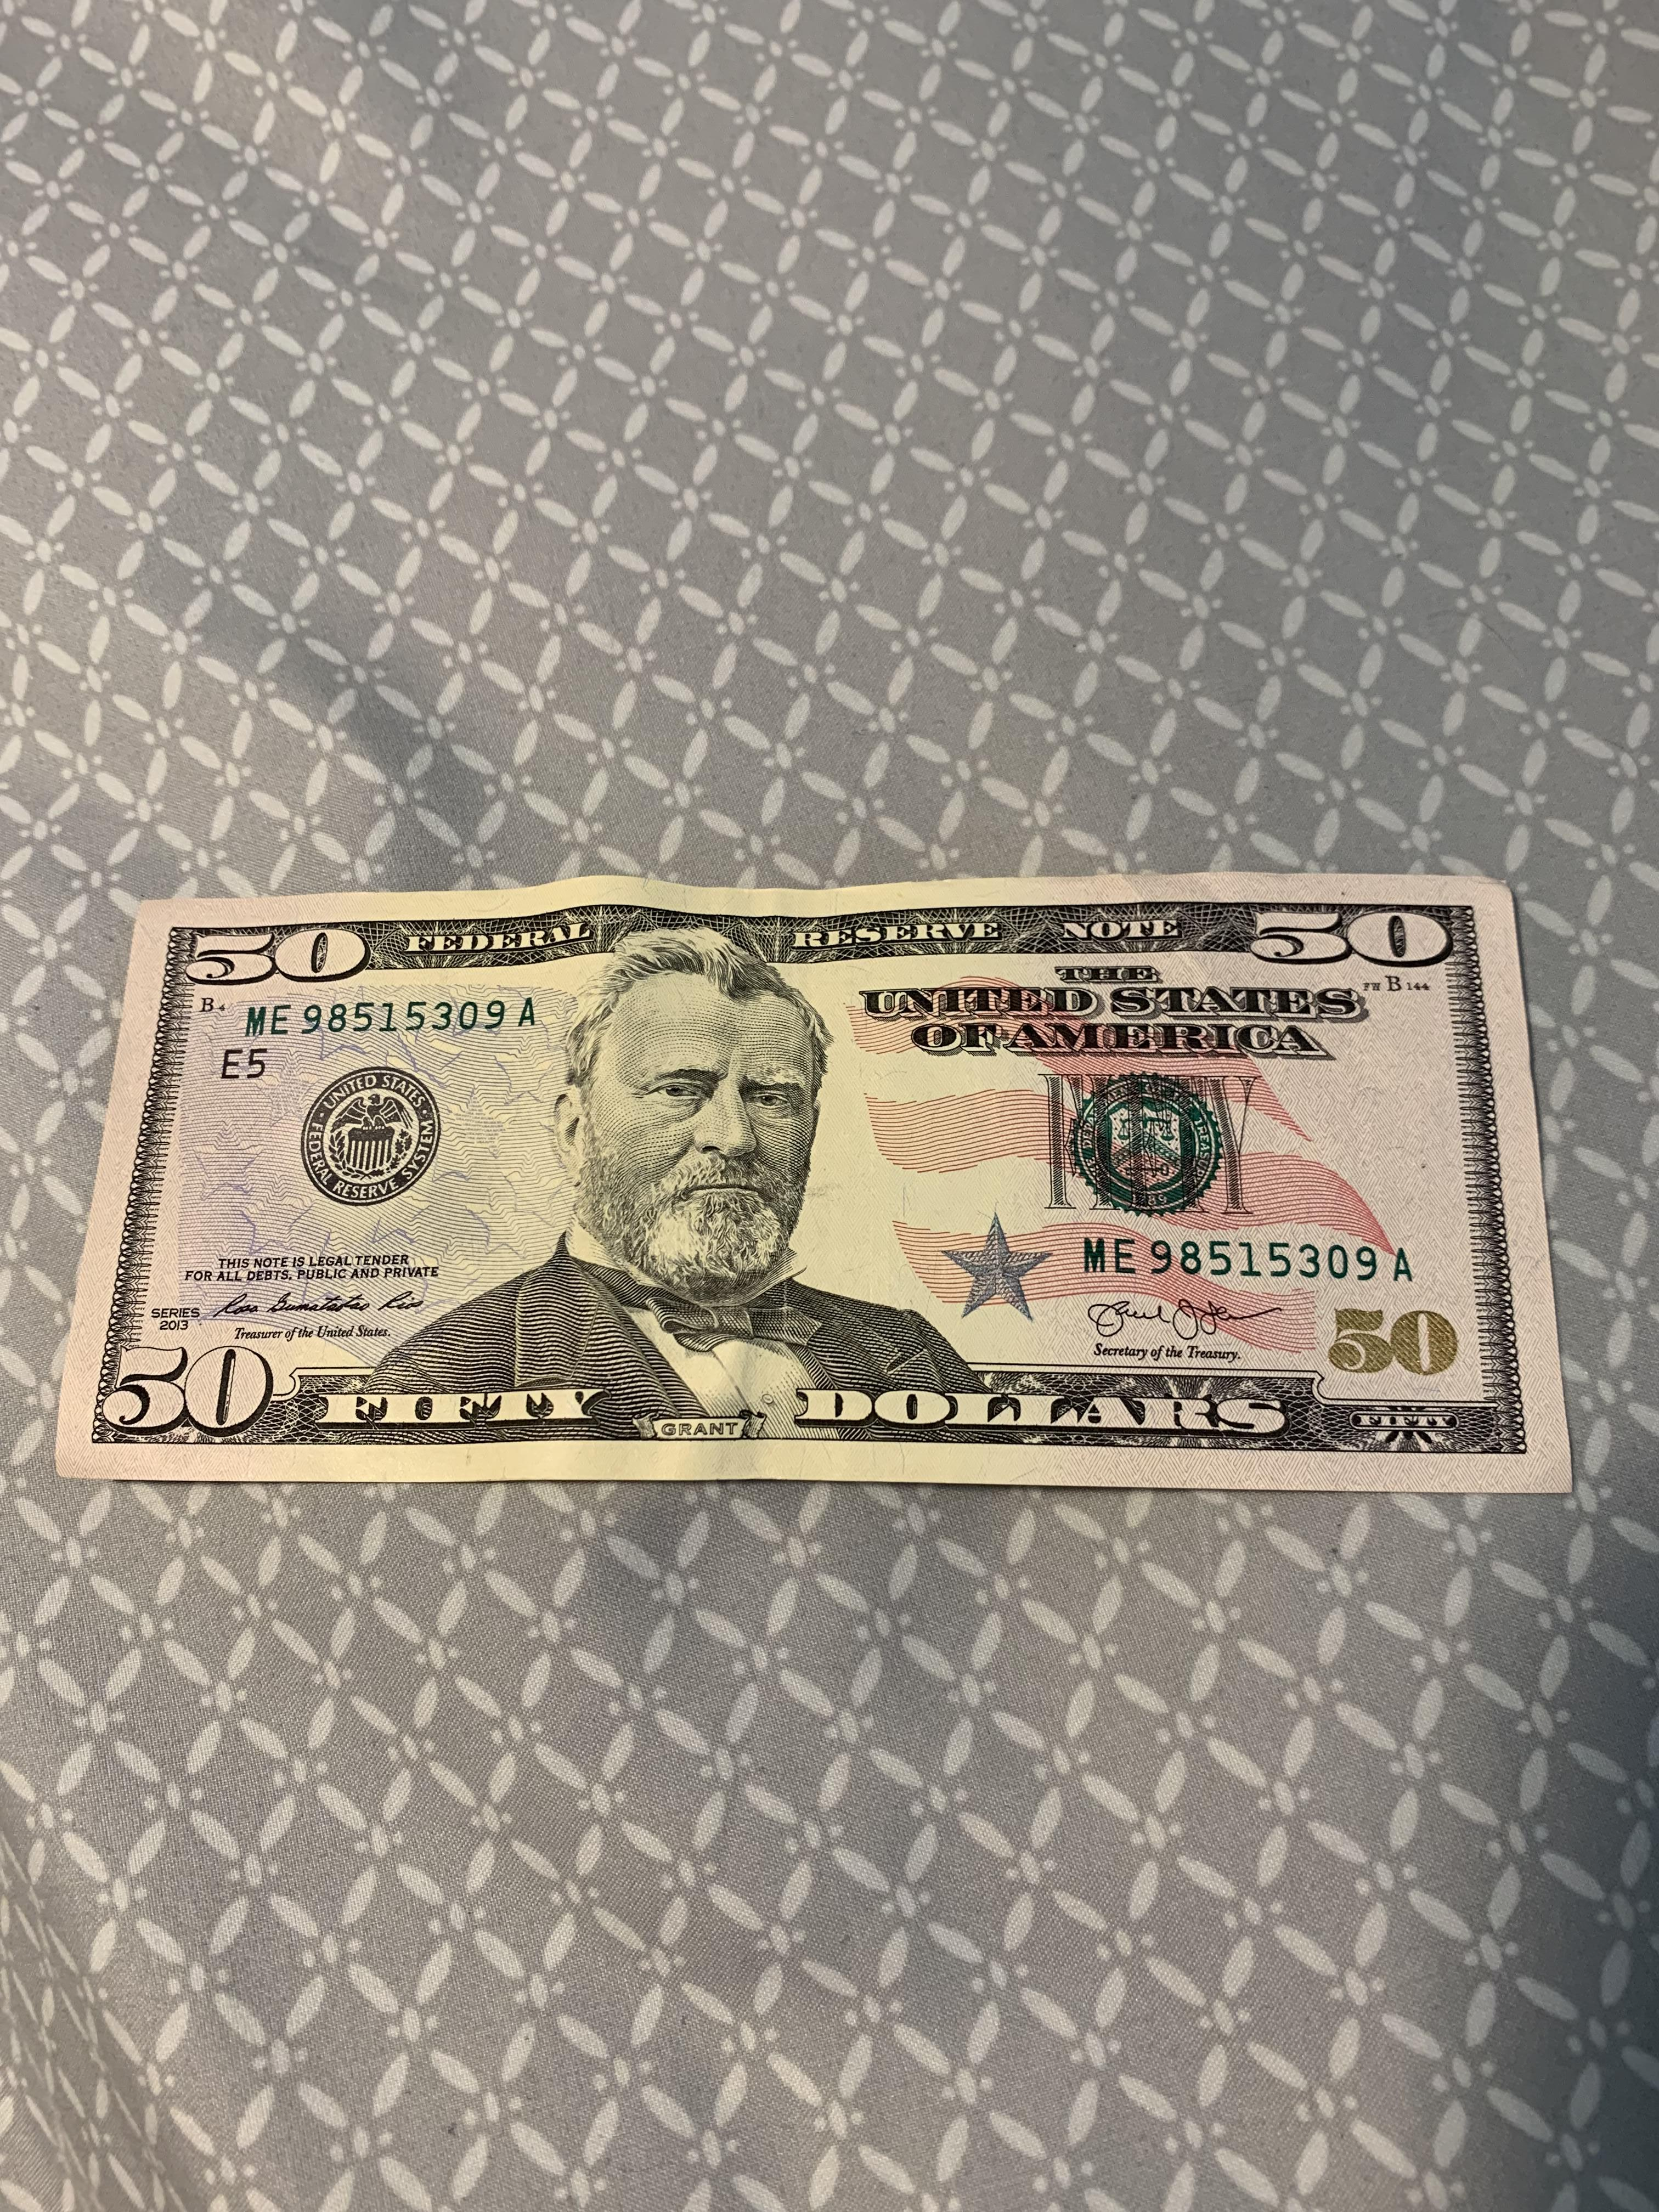FiftyBill: (37, 852, 1595, 1519)
